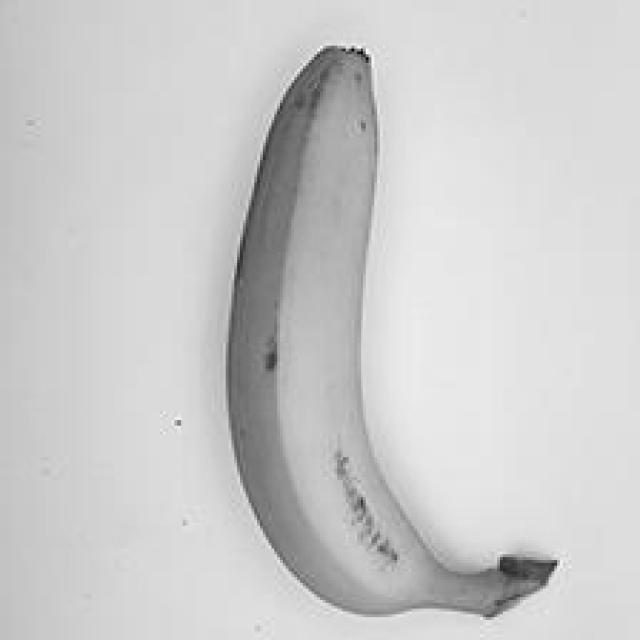Unripe: (167, 21, 570, 629)
